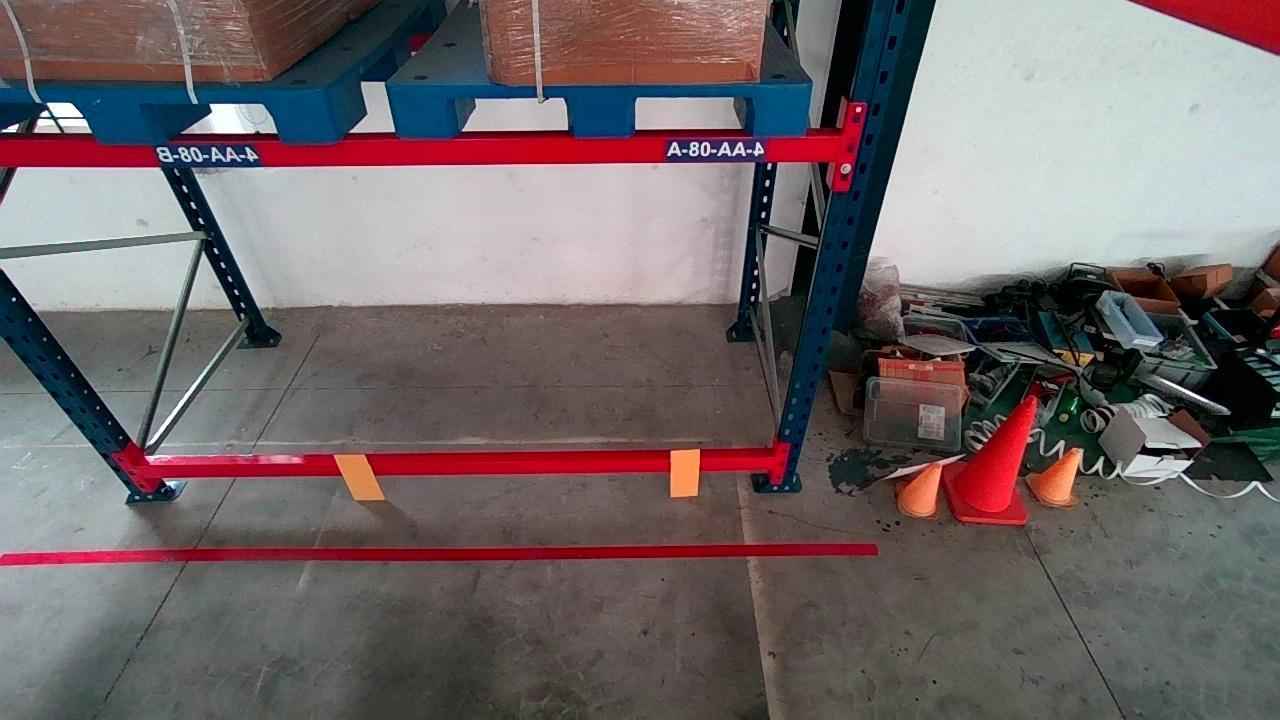h_rack: (0, 130, 843, 166), (130, 452, 782, 479)
orange_strip: (335, 453, 385, 501), (670, 447, 703, 497)
red_line: (0, 540, 877, 566)
small_pallet: (396, 81, 812, 134), (0, 87, 335, 142)
